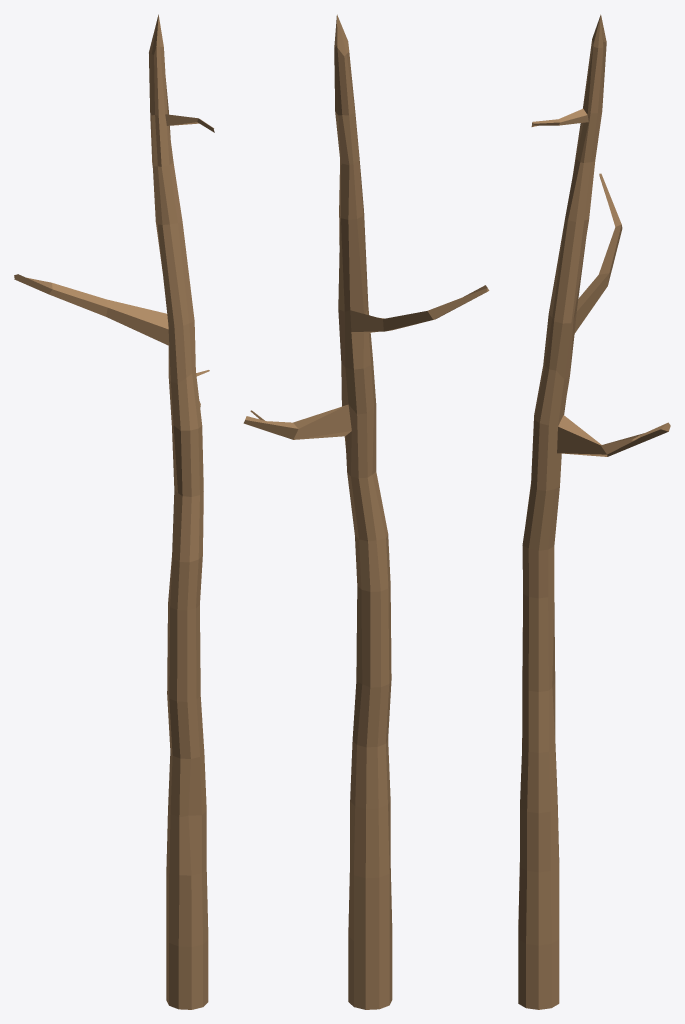
The model's file is fbxdeadtree.fbx.
The picture shows the model from 3 angles, left to right: view 1: azimuth 30°, elevation 25°; view 2: azimuth 150°, elevation 25°; view 3: azimuth 270°, elevation 25°; orthographic projection. The views are drawn at different scales.
Parts seen in each view (by area): view 1: pCylinder3; view 2: pCylinder3; view 3: pCylinder3.
Part boxes in pixels (x1,y1,x2,y2): pCylinder3: (14, 14, 214, 1009); pCylinder3: (243, 14, 489, 1009); pCylinder3: (518, 14, 670, 1009).
Size of the model in its own units: 5.57 by 24.21 by 3.39.
